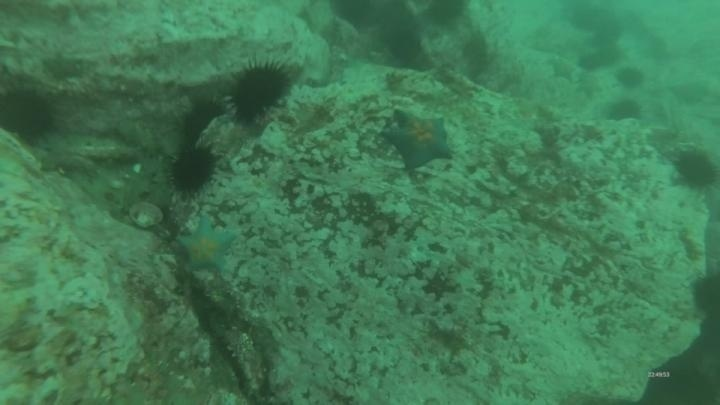echinus: (225, 59, 293, 124), (1, 83, 60, 145), (168, 143, 219, 196), (178, 97, 226, 147), (672, 147, 718, 191), (384, 28, 424, 67), (689, 269, 720, 318), (329, 1, 377, 31), (423, 1, 470, 28), (605, 97, 643, 124), (577, 47, 615, 74), (614, 64, 646, 91)
holothurian: (94, 64, 182, 103)
starfish: (382, 107, 455, 172), (174, 214, 239, 276), (546, 55, 582, 84)
